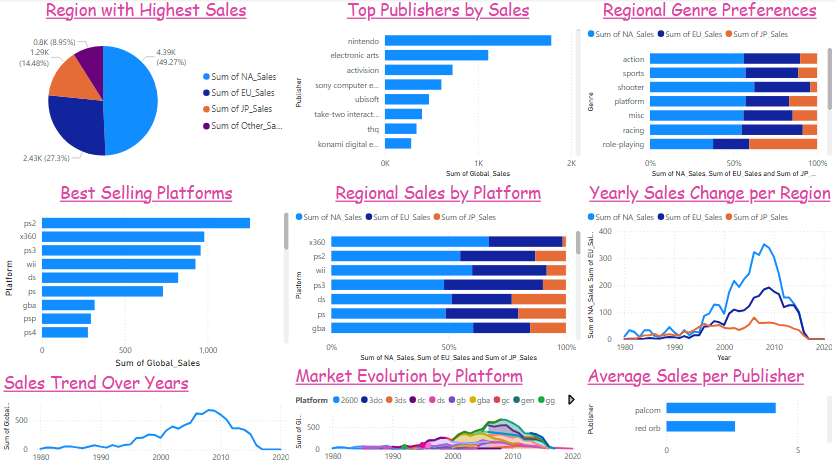

This screenshot's page, from the dashboard's own definition file:
{"tool":"powerbi","page":{"name":"Page 2","canvas":[1280,720],"ordinal":1},"visuals":[{"type":"pieChart","title":"Region with Highest Sales","fields":{"Y":["Sum(cleaned_vgsales.NA_Sales)","Sum(cleaned_vgsales.EU_Sales)","Sum(cleaned_vgsales.JP_Sales)","Sum(cleaned_vgsales.Other_Sales)"]},"box":[0,0,447.4,279.7],"z":0},{"type":"clusteredBarChart","title":"Best Selling Platforms","fields":{"Category":["cleaned_vgsales.Platform"],"Y":["Sum(cleaned_vgsales.Global_Sales)"]},"box":[0,279.7,447.4,290.8],"z":1000},{"type":"lineChart","title":"Sales Trend Over Years","fields":{"Y":["Sum(cleaned_vgsales.Global_Sales)"],"Category":["cleaned_vgsales.Year"]},"box":[0,570.5,447.4,150.2],"z":2000},{"type":"clusteredBarChart","title":"Top Publishers by Sales","fields":{"Category":["cleaned_vgsales.Publisher"],"Y":["Sum(cleaned_vgsales.Global_Sales)"]},"box":[447.4,0,447.4,279.7],"z":3000},{"type":"hundredPercentStackedBarChart","title":"Regional Sales by Platform","fields":{"Category":["cleaned_vgsales.Platform"],"Y":["Sum(cleaned_vgsales.NA_Sales)","Sum(cleaned_vgsales.EU_Sales)","Sum(cleaned_vgsales.JP_Sales)"]},"box":[447.4,279.7,447.4,281.2],"z":4000},{"type":"stackedAreaChart","title":"Market Evolution by Platform","fields":{"Y":["Sum(cleaned_vgsales.Global_Sales)"],"Category":["cleaned_vgsales.Year"],"Series":["cleaned_vgsales.Platform"]},"box":[447.4,560.9,447.4,159.8],"z":5000},{"type":"hundredPercentStackedBarChart","title":"Regional Genre Preferences","fields":{"Category":["cleaned_vgsales.Genre"],"Y":["Sum(cleaned_vgsales.NA_Sales)","Sum(cleaned_vgsales.EU_Sales)","Sum(cleaned_vgsales.JP_Sales)"]},"box":[894.9,0,385.1,279.7],"z":6000},{"type":"lineChart","title":"Yearly Sales Change per Region","fields":{"Category":["cleaned_vgsales.Year"],"Y":["Sum(cleaned_vgsales.NA_Sales)","Sum(cleaned_vgsales.EU_Sales)","Sum(cleaned_vgsales.JP_Sales)"]},"box":[894.9,279.7,385.1,281.2],"z":7000},{"type":"clusteredBarChart","title":"Average Sales per Publisher","fields":{"Category":["cleaned_vgsales.Publisher"],"Y":["Avg(cleaned_vgsales.Global_Sales)"]},"box":[894.9,560.9,385.1,150.2],"z":8000}]}

Visuals, with their boxes in screenshot pixels (x1, y1, x2, y2), scaled from the page's 1280x720 canvas onto the 836x467 screenshot:
"Region with Highest Sales" pieChart: bbox(0, 0, 292, 181)
"Best Selling Platforms" clusteredBarChart: bbox(0, 181, 292, 370)
"Sales Trend Over Years" lineChart: bbox(0, 370, 292, 466)
"Top Publishers by Sales" clusteredBarChart: bbox(292, 0, 584, 181)
"Regional Sales by Platform" hundredPercentStackedBarChart: bbox(292, 181, 584, 364)
"Market Evolution by Platform" stackedAreaChart: bbox(292, 364, 584, 466)
"Regional Genre Preferences" hundredPercentStackedBarChart: bbox(584, 0, 835, 181)
"Yearly Sales Change per Region" lineChart: bbox(584, 181, 835, 364)
"Average Sales per Publisher" clusteredBarChart: bbox(584, 364, 835, 461)
